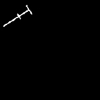double_crochet: (4, 6, 31, 25)
